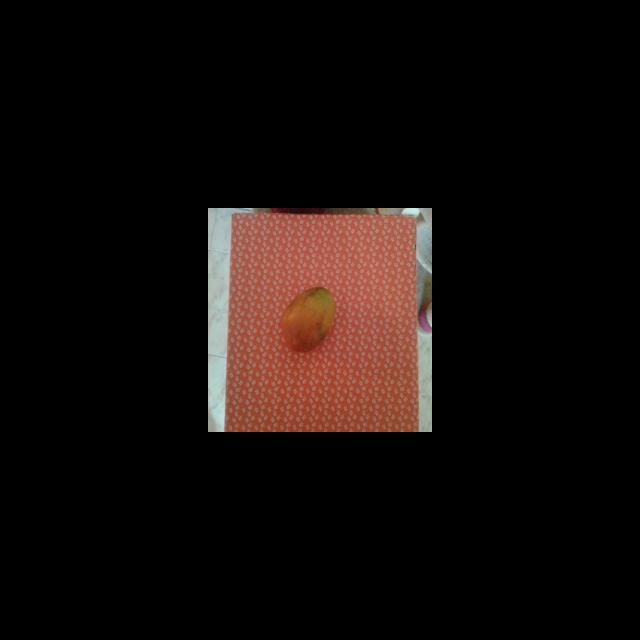Mango: (278, 286, 336, 352)
